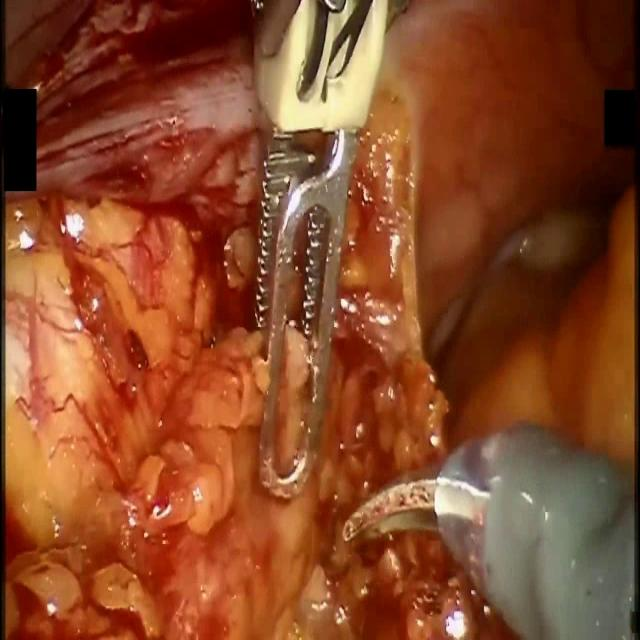surgical-area: (1, 0, 640, 639)
surgical-tool: (249, 0, 388, 504), (342, 423, 637, 639)
